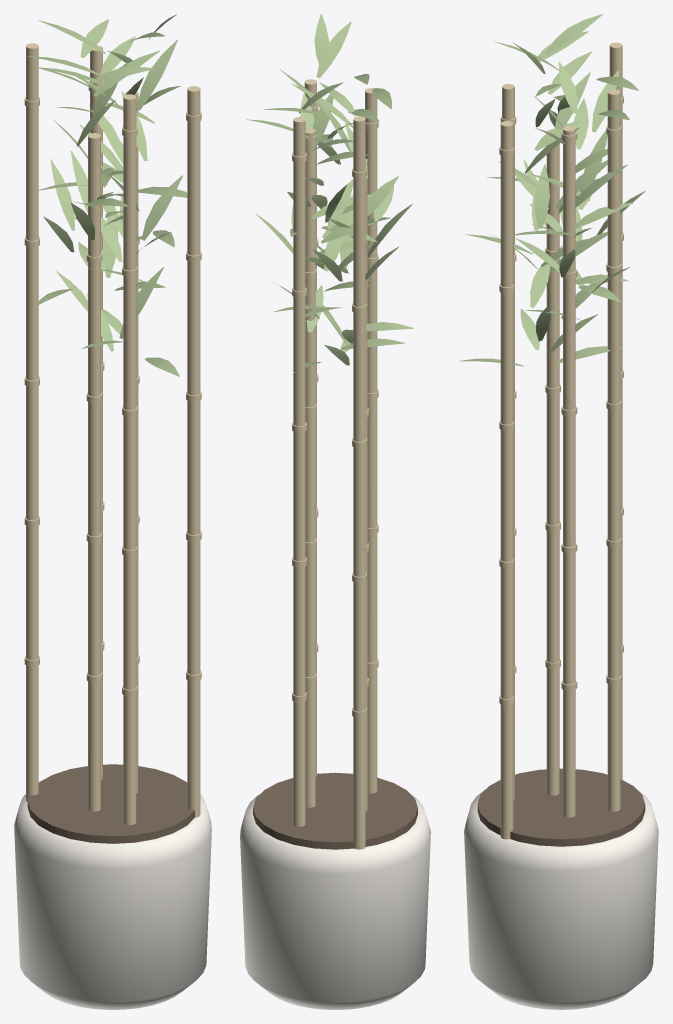
File: sg_plant_bamboo.glb
The picture shows the model from 3 angles, left to right: view 1: azimuth 30°, elevation 25°; view 2: azimuth 150°, elevation 25°; view 3: azimuth 270°, elevation 25°; orthographic projection. The views are drawn at different scales.
Visible parts, largest first — view 1: canes, pot, leaves, soil; view 2: canes, pot, leaves, soil; view 3: canes, pot, leaves, soil.
Boxes of the visible parts, x1,y1,x2,y2 form: canes: (24,43,201,825); pot: (14,794,211,1009); leaves: (27,14,187,376); soil: (27,764,194,843); canes: (292,79,378,849); pot: (240,794,430,1009); leaves: (247,14,414,372); soil: (253,772,417,849); canes: (499,42,623,839); pot: (464,789,658,1009); leaves: (459,14,645,366); soil: (477,768,645,846).
Bounding box in the file's own units: 0.36 × 1.95 × 0.3687.
